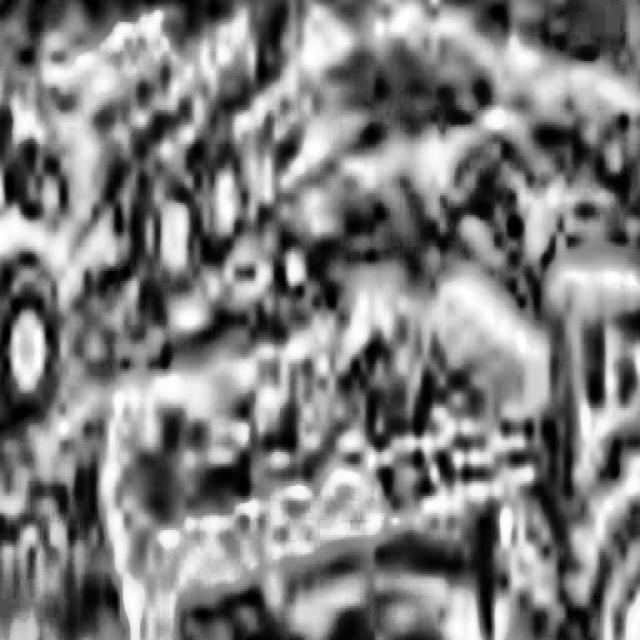dump_truck: (101, 220, 640, 640), (0, 0, 274, 440)
